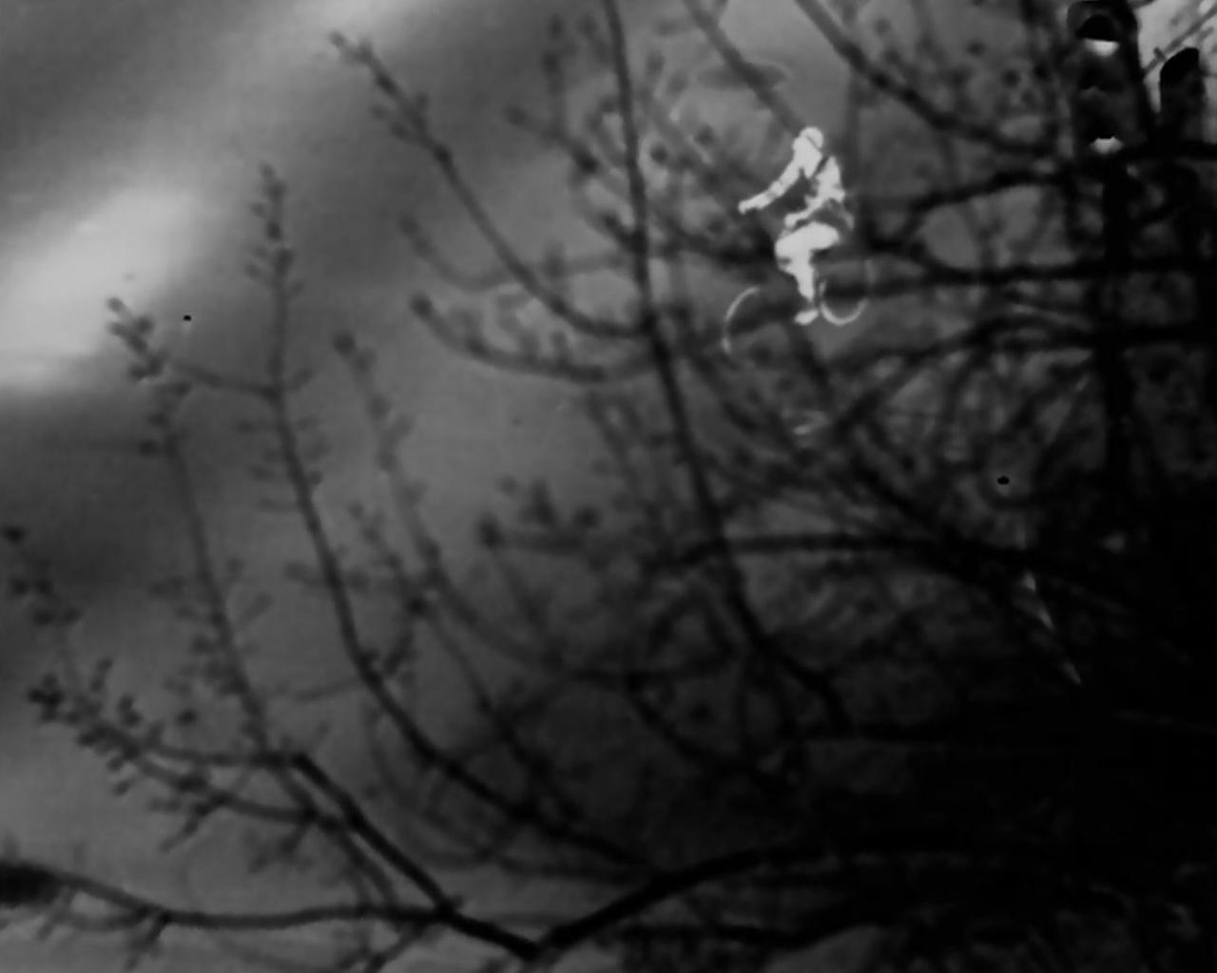person: (731, 124, 859, 325)
